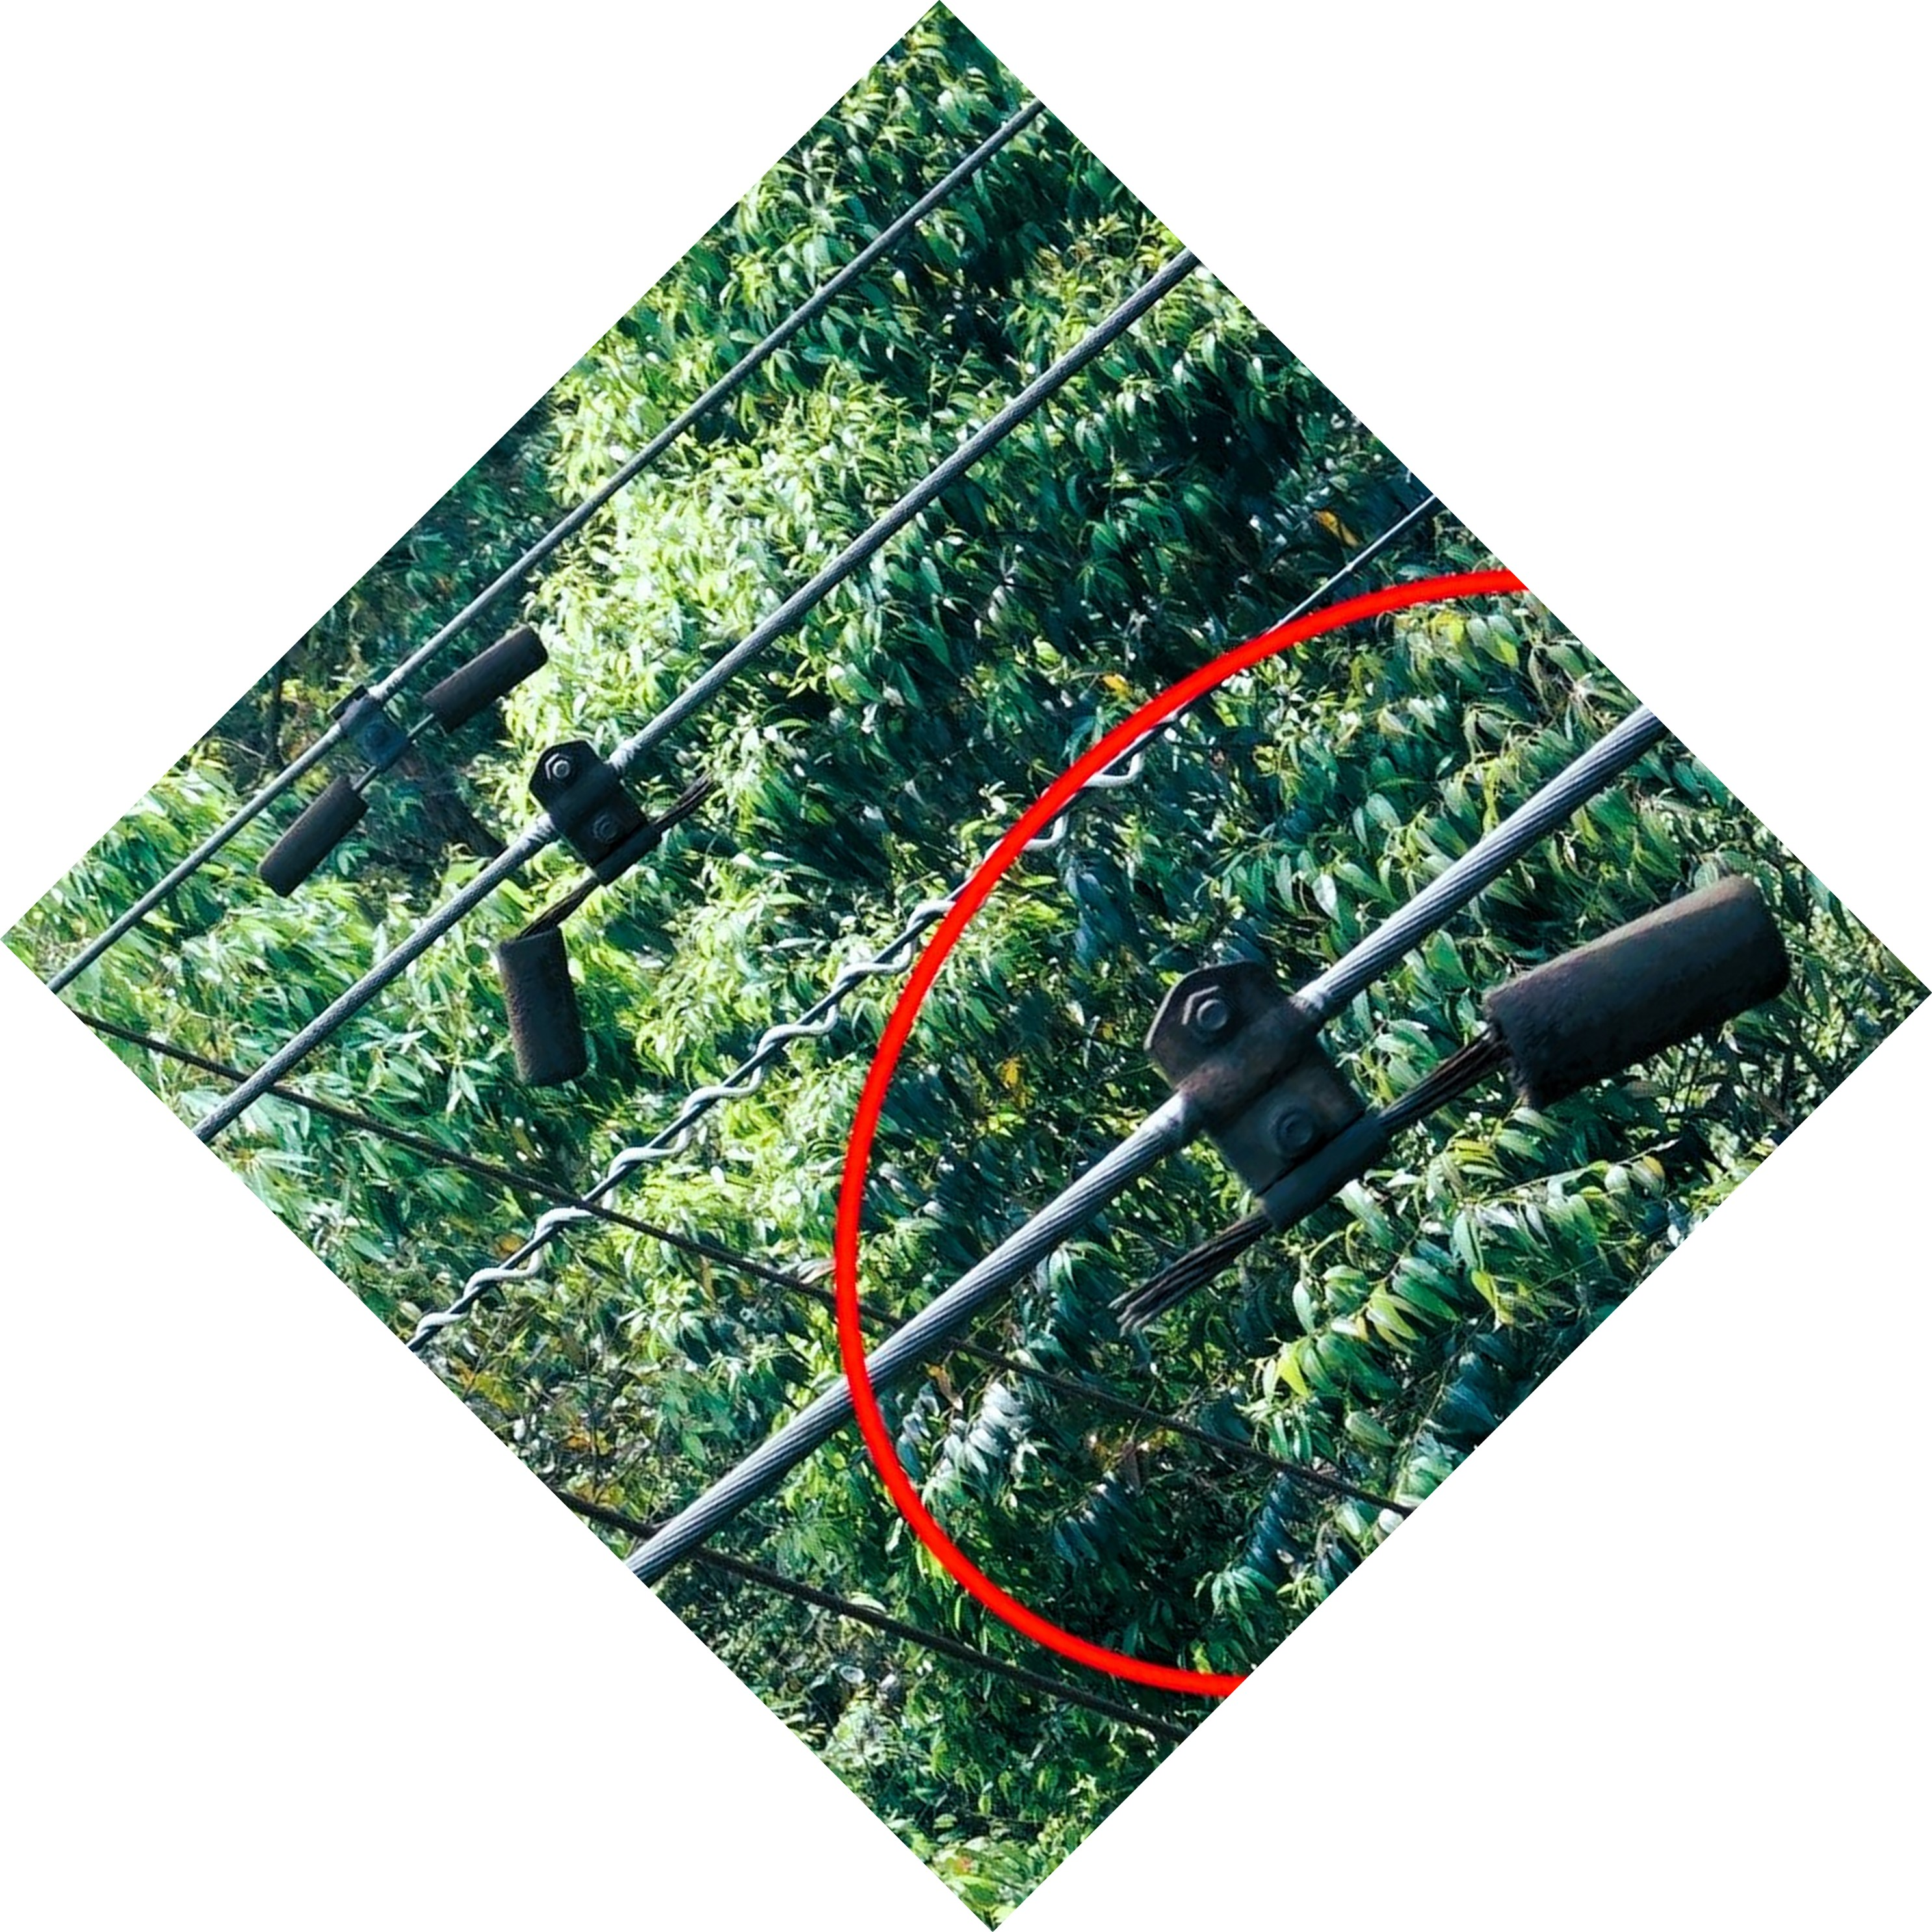Damage of shockproof hammer: (1024, 816, 1822, 1422), (458, 694, 750, 1111)
